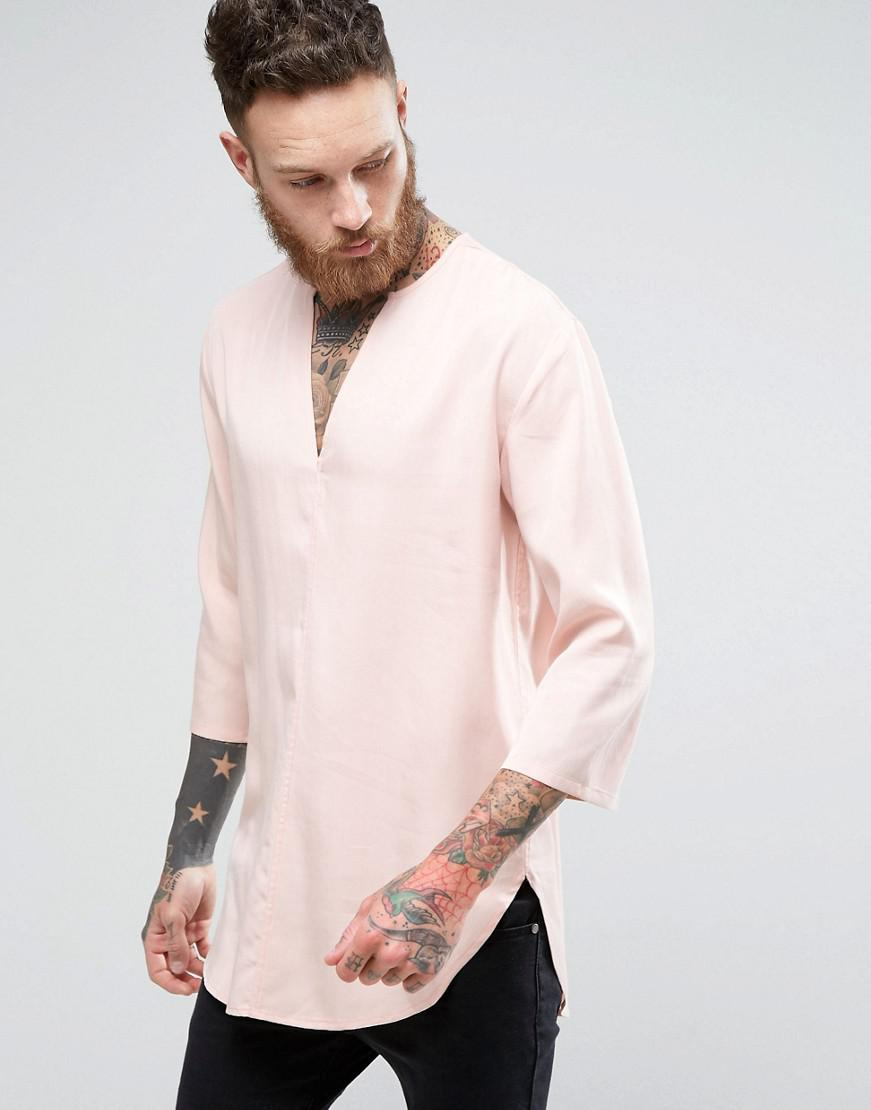teeshirt: (179, 203, 668, 1027)
